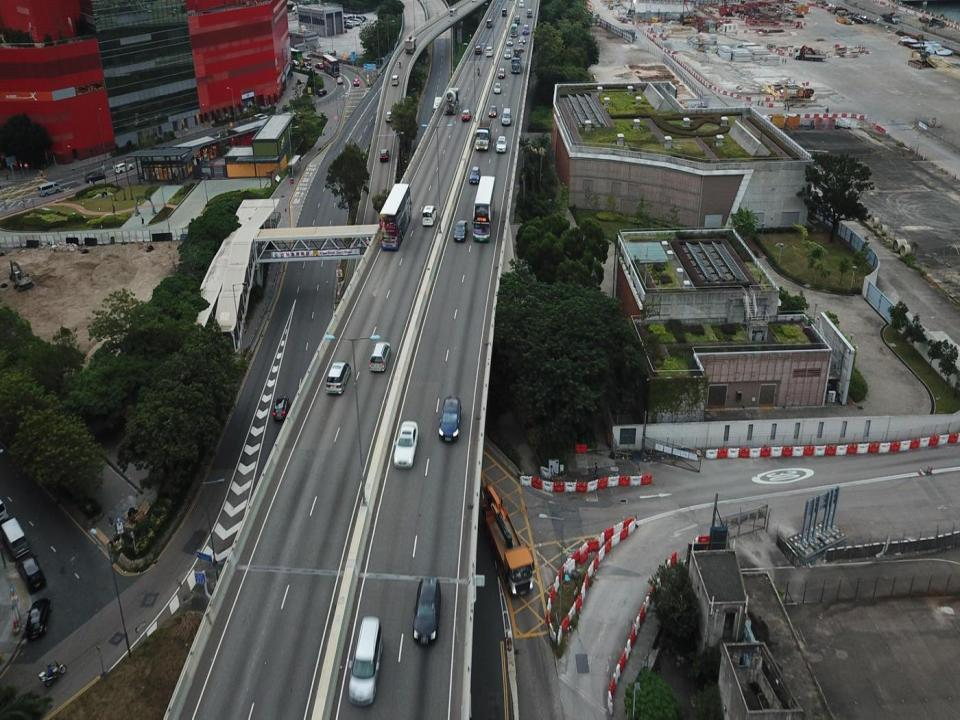bus: (378, 182, 412, 248), (471, 176, 498, 242), (324, 53, 342, 77)
car: (394, 418, 418, 468), (438, 395, 462, 443), (26, 596, 52, 638), (17, 556, 45, 591), (326, 360, 350, 395), (370, 341, 390, 372), (271, 395, 289, 421), (452, 219, 468, 242), (469, 166, 481, 184), (460, 106, 472, 121), (379, 148, 390, 162), (488, 103, 498, 118), (390, 73, 400, 86), (385, 109, 394, 122), (473, 44, 482, 57), (317, 88, 328, 98), (496, 65, 504, 78), (510, 22, 517, 36), (352, 77, 361, 87), (494, 82, 501, 94), (486, 46, 493, 58), (524, 23, 530, 34), (336, 76, 344, 84), (518, 35, 526, 43), (516, 40, 524, 48), (505, 48, 510, 60), (506, 36, 513, 44)
truck: (481, 483, 535, 597), (474, 118, 492, 152), (444, 87, 460, 115), (510, 47, 523, 75), (403, 36, 418, 53)
van: (347, 614, 382, 706), (411, 577, 442, 646), (1, 516, 31, 559), (37, 182, 62, 195), (421, 204, 435, 226), (84, 171, 106, 184), (113, 160, 133, 174), (495, 134, 508, 154), (432, 96, 444, 116), (500, 107, 512, 125), (445, 7, 457, 18), (514, 14, 520, 24), (501, 6, 507, 16), (526, 8, 532, 17), (517, 0, 523, 7)
